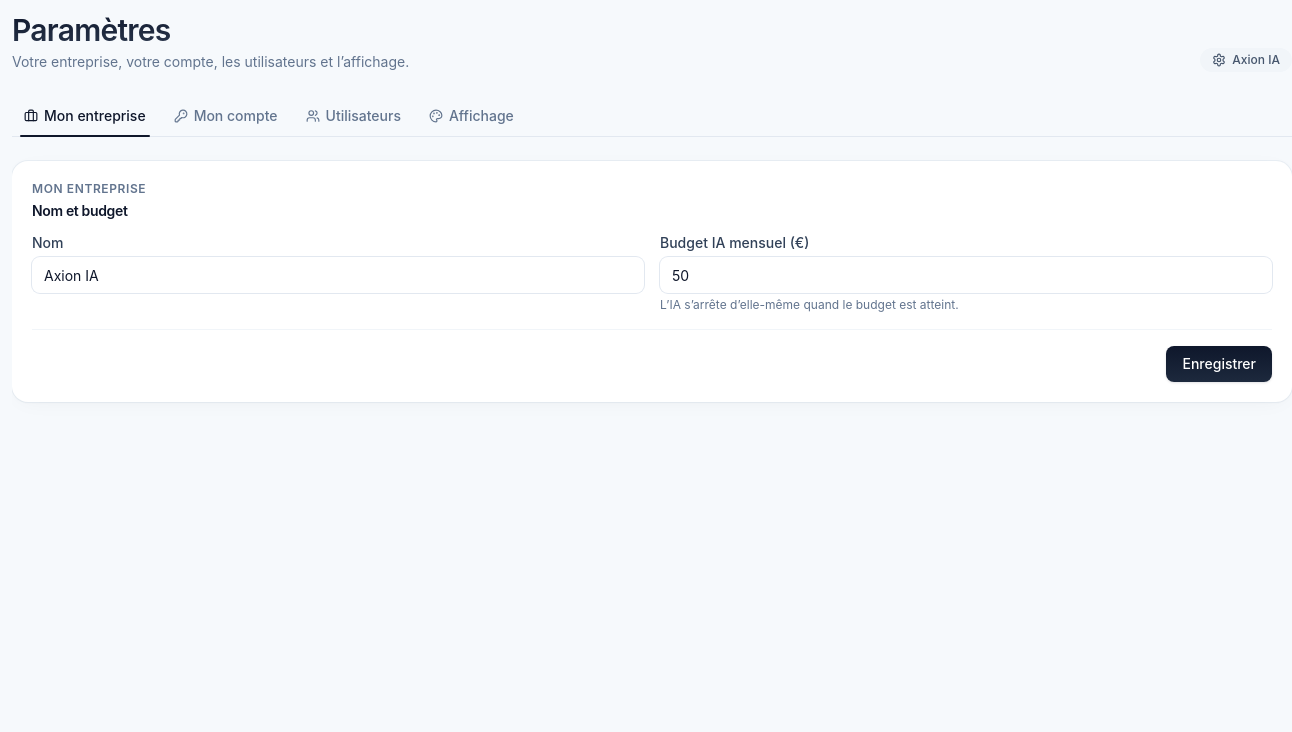
Test case: Paramètres → Mon compte → Changer mon mot de passe › affiche les règles en clair et exige l’ancien mot de passe par défaut
Click the tab "Mon compte" at (226, 116), box [162,96,290,136]
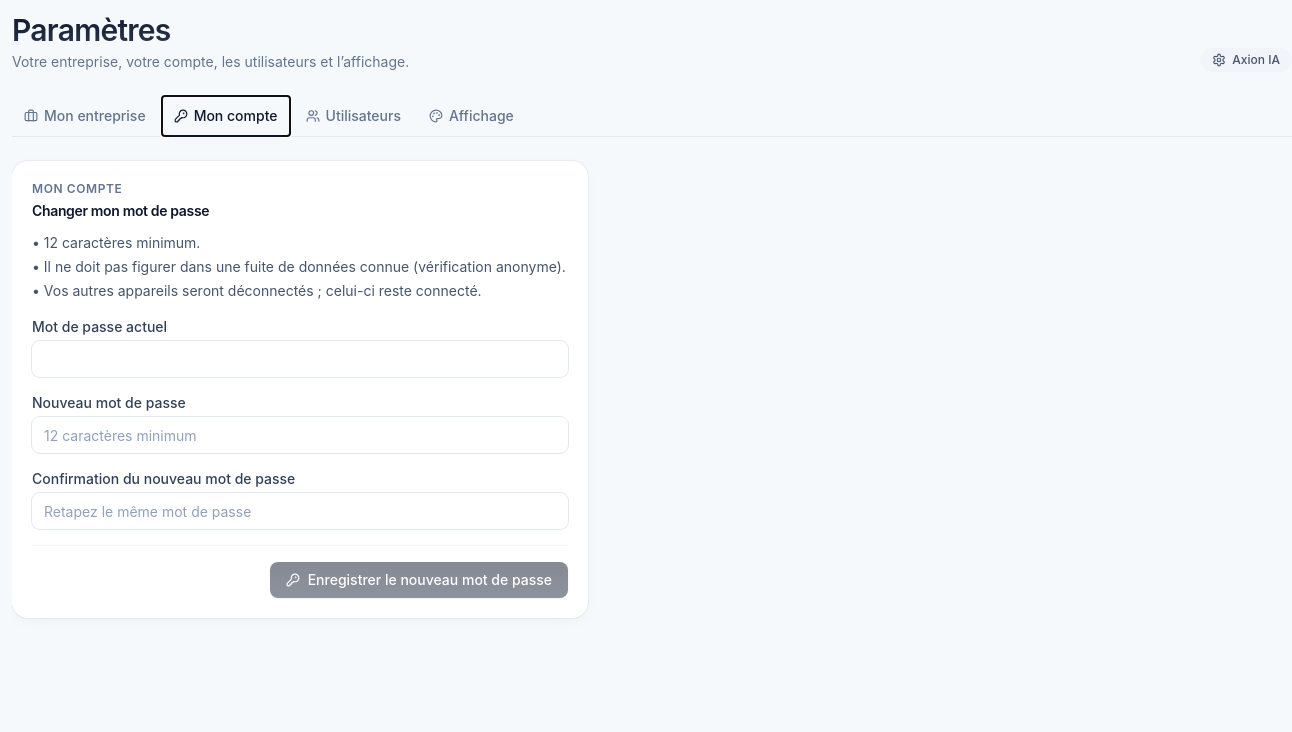
Expected: the list item "• 12 caractères minimum." is shown, [32,234,200,251]
Expected: the list item "fuite de données connue" is shown, [32,258,566,275]
Type "AncienMotDePasse!" into the password field labelled "Mot de passe actuel" at (300, 359), box [32,341,568,377]
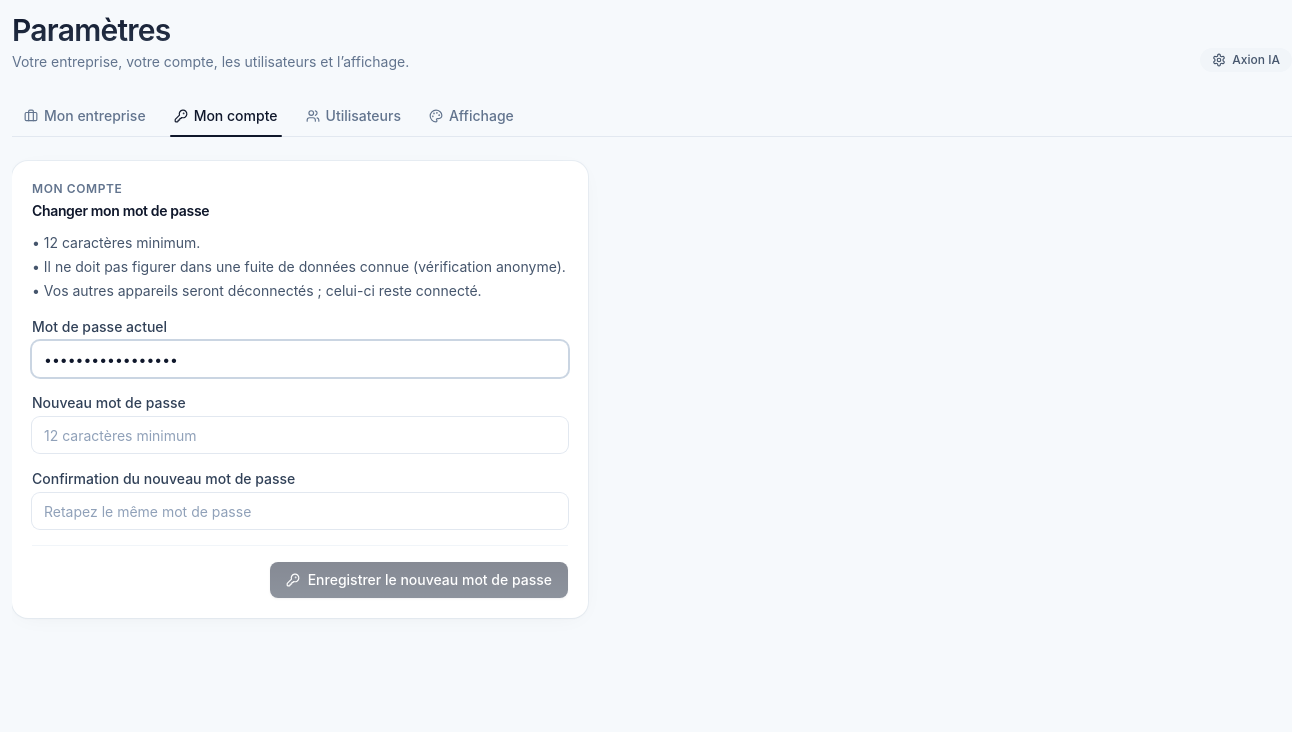
Type "NouveauMotDePasse-2026" into the password field labelled "Nouveau mot de passe" at (300, 435), box [32,417,568,453]
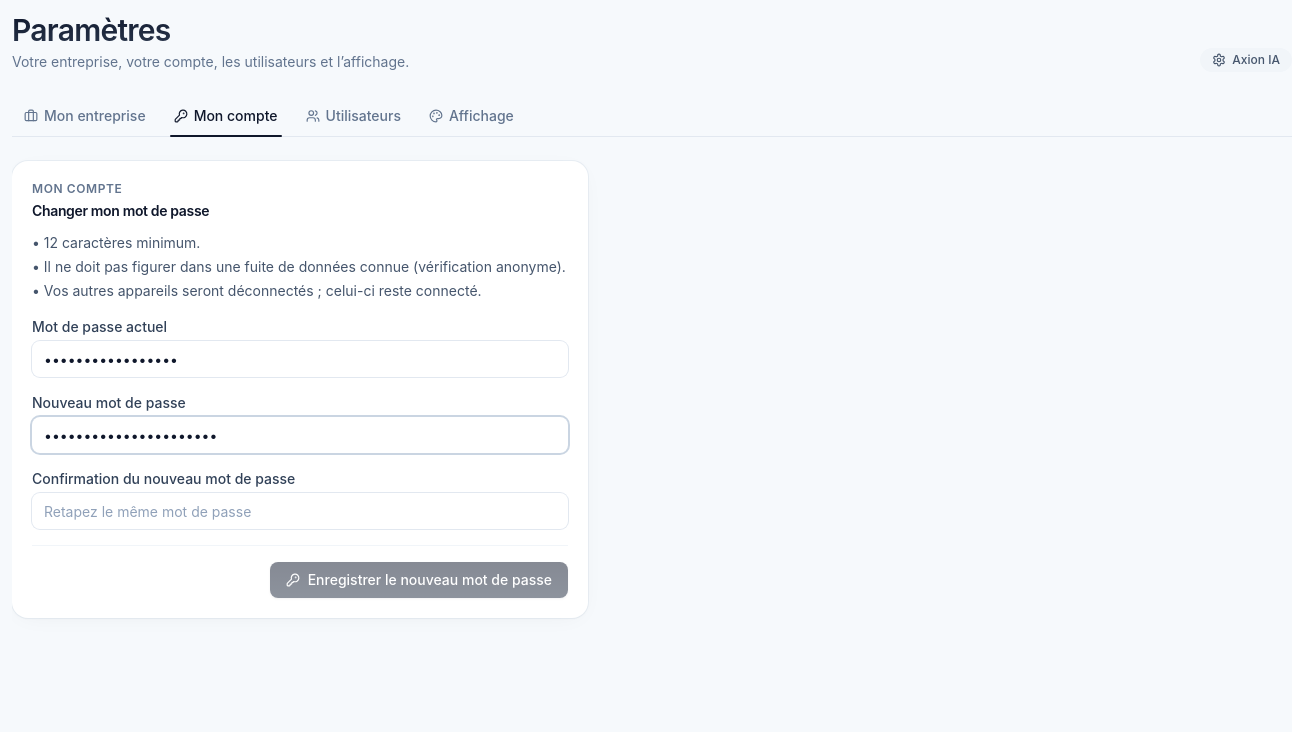
Type "NouveauMotDePasse-2026" into the password field labelled "Confirmation du nouveau mot de passe" at (300, 511), box [32,493,568,529]
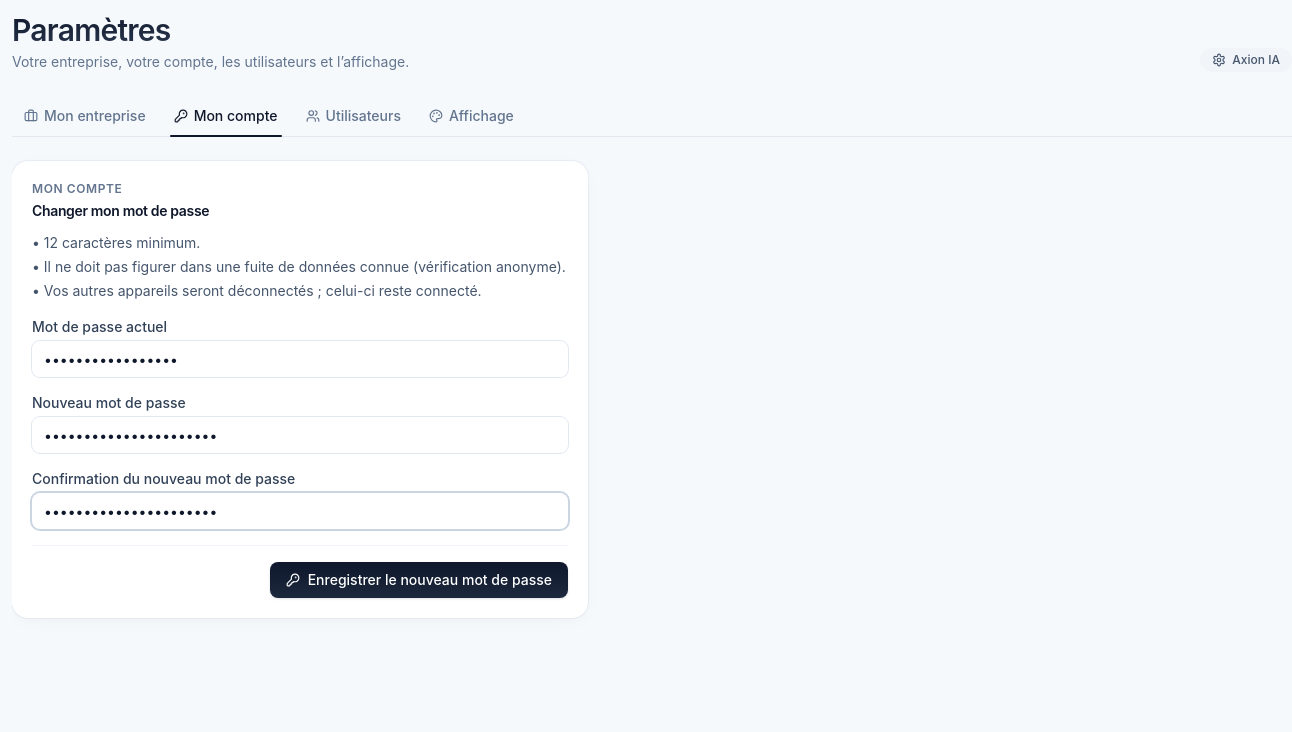
Click the button "Enregistrer le nouveau mot de passe" at (419, 580), box [270,562,568,598]
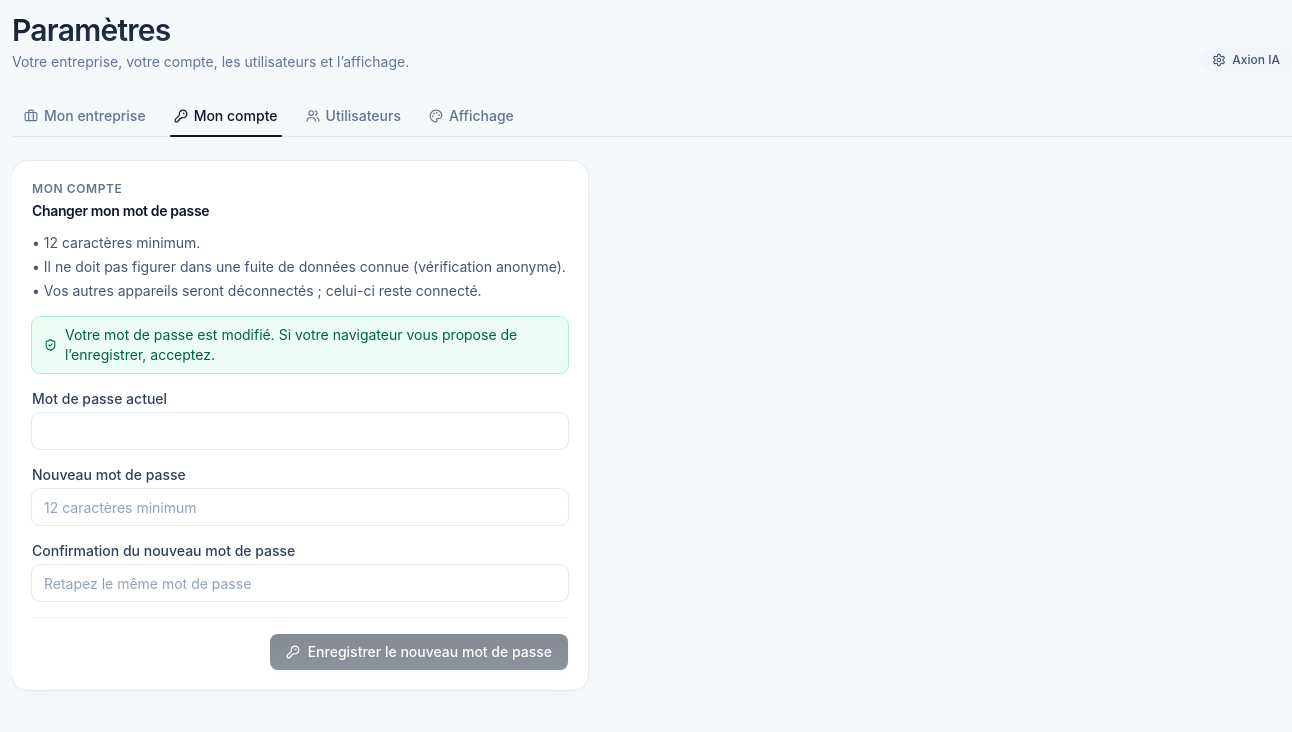
Expected: the message shows "Votre mot de passe est modifié", [65,326,517,363]
